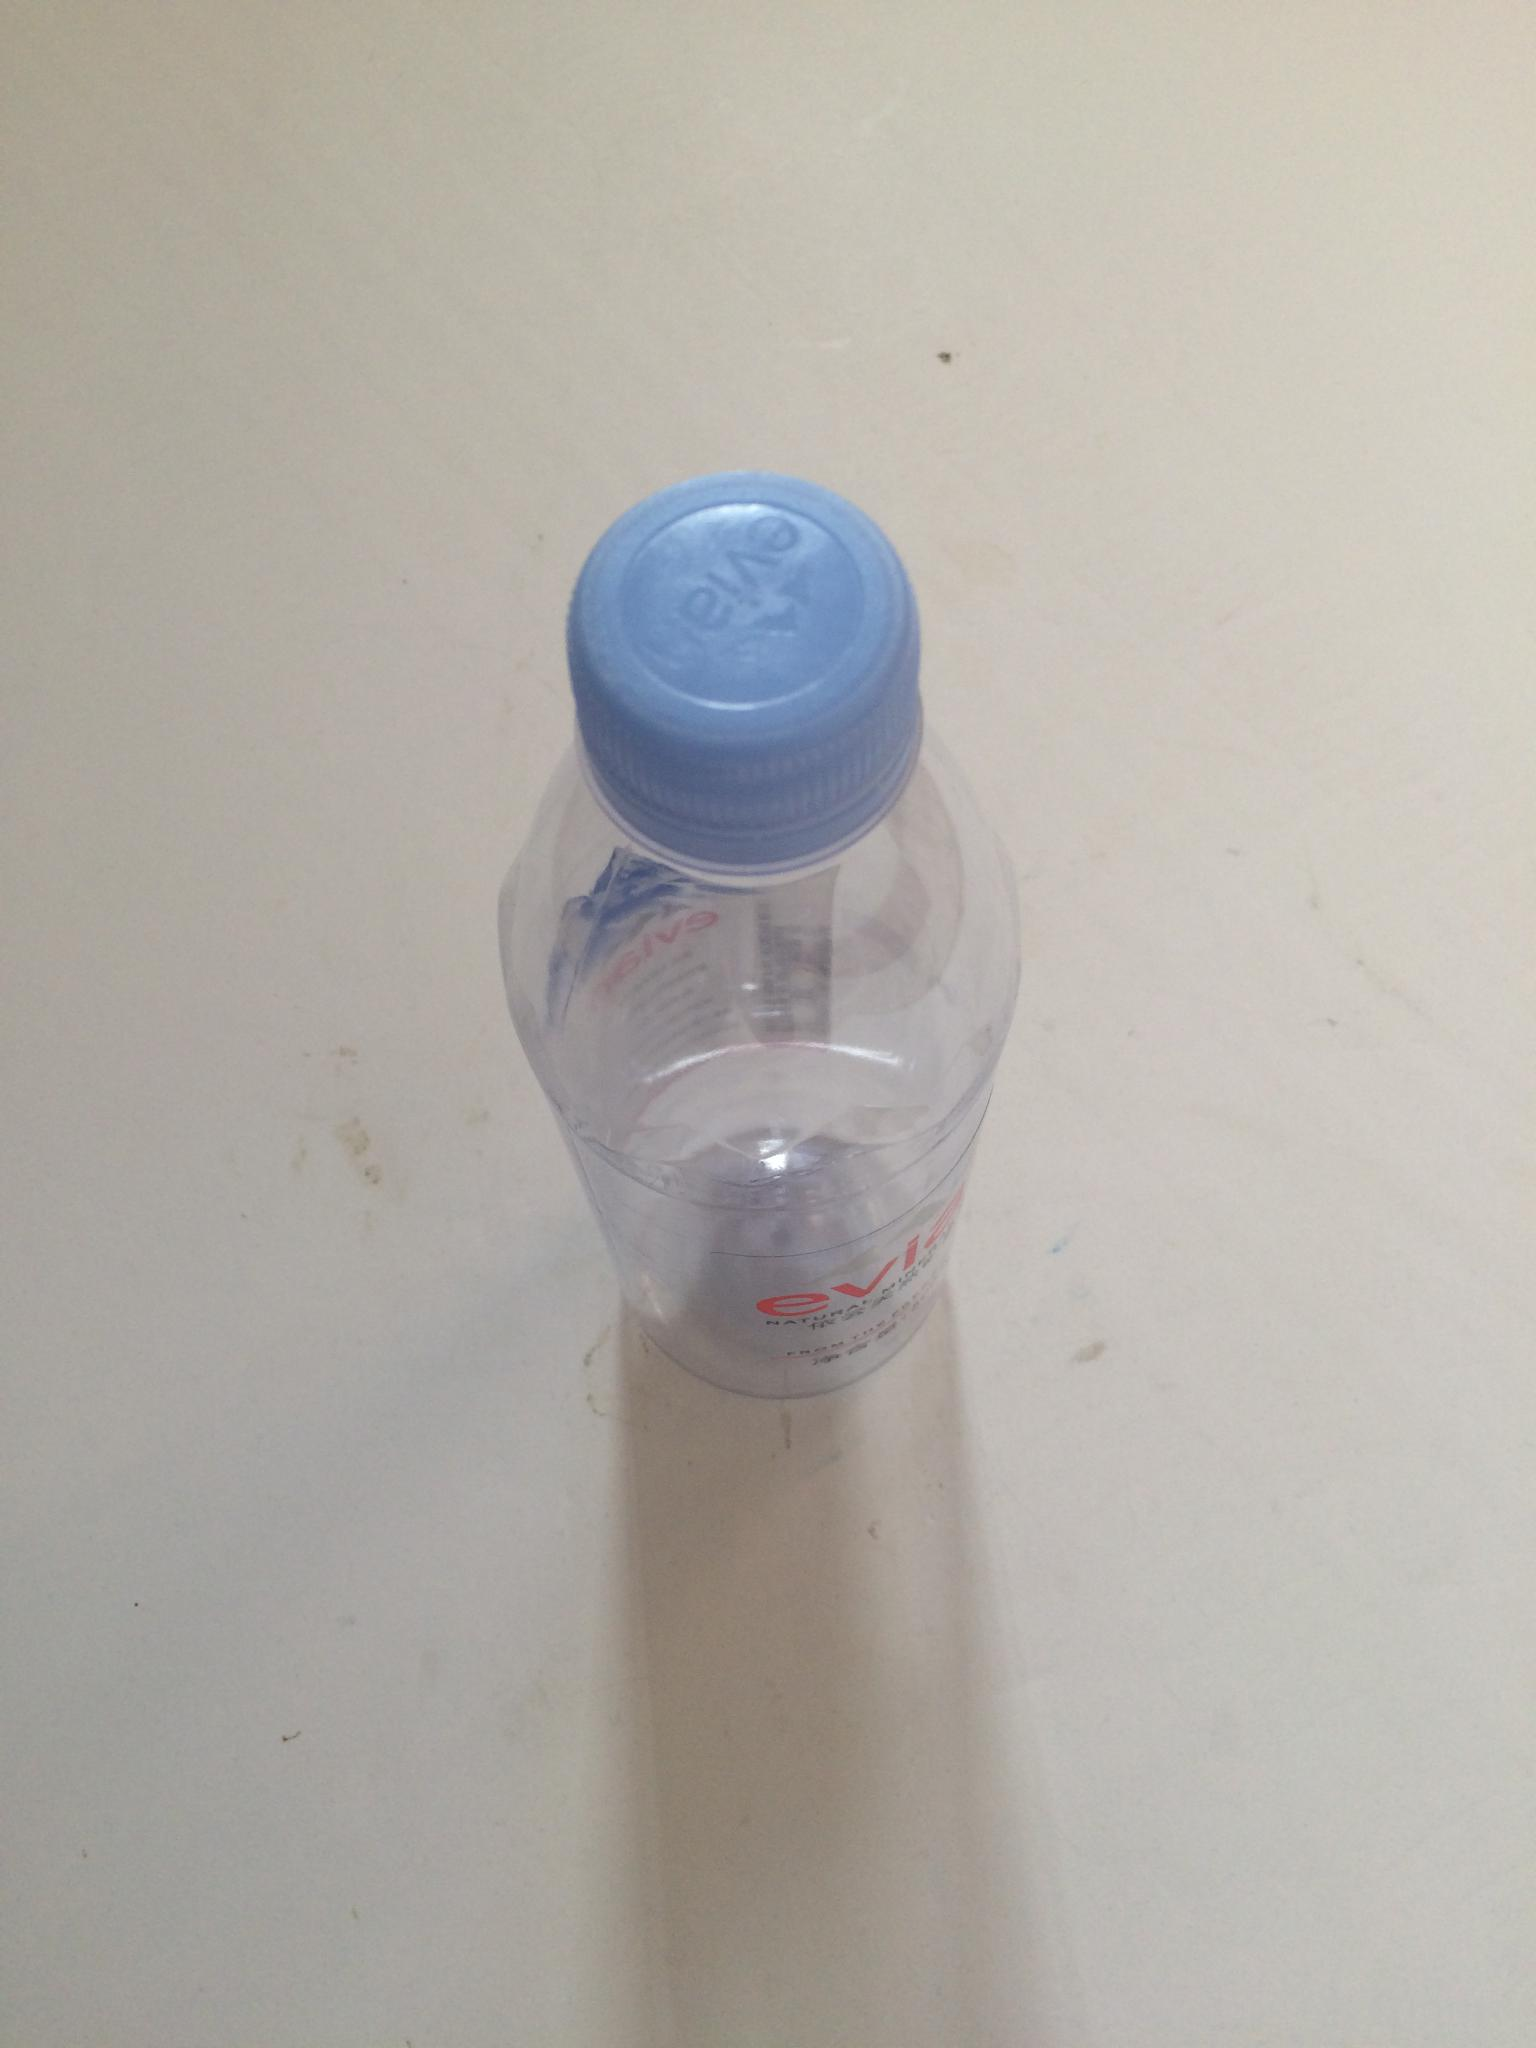Plastic: (460, 452, 1044, 1430)
